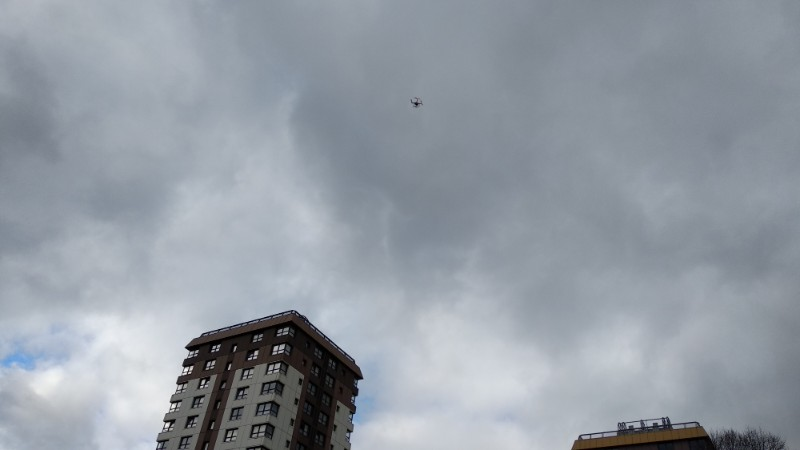drone: (410, 97, 423, 108)
